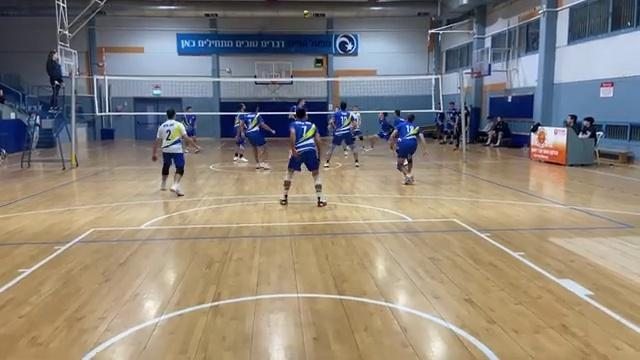ball: (302, 11, 310, 18)
